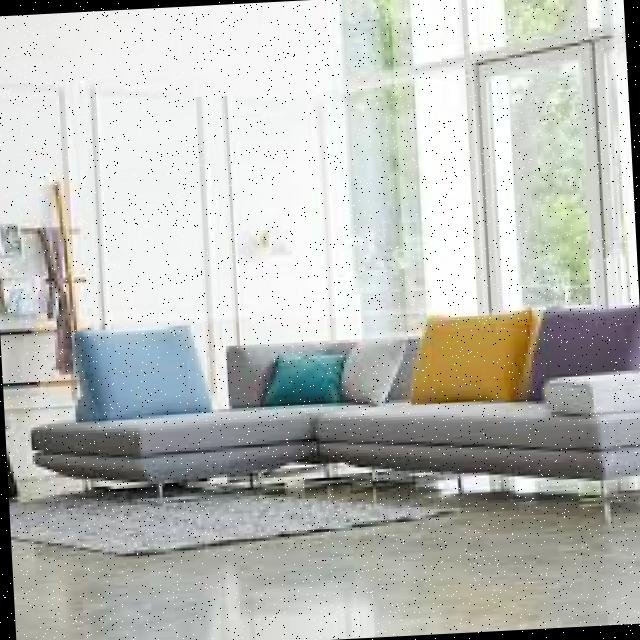Sofa: (11, 281, 640, 579)
